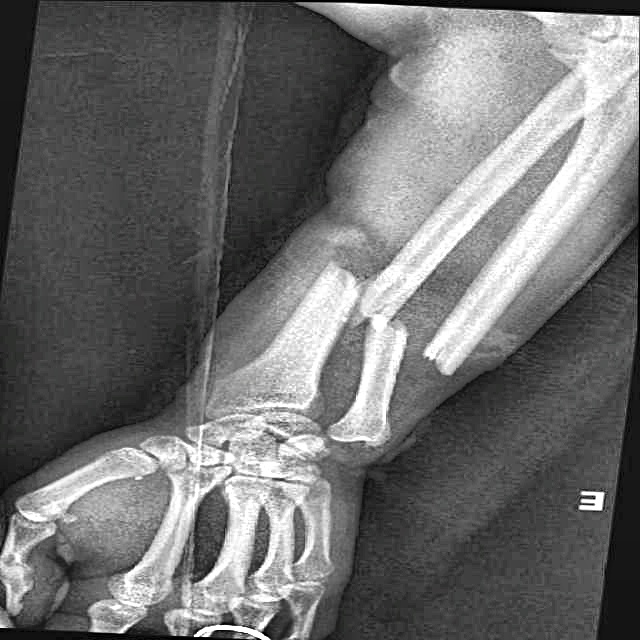Transverse: (342, 305, 478, 394), (299, 254, 402, 337)
